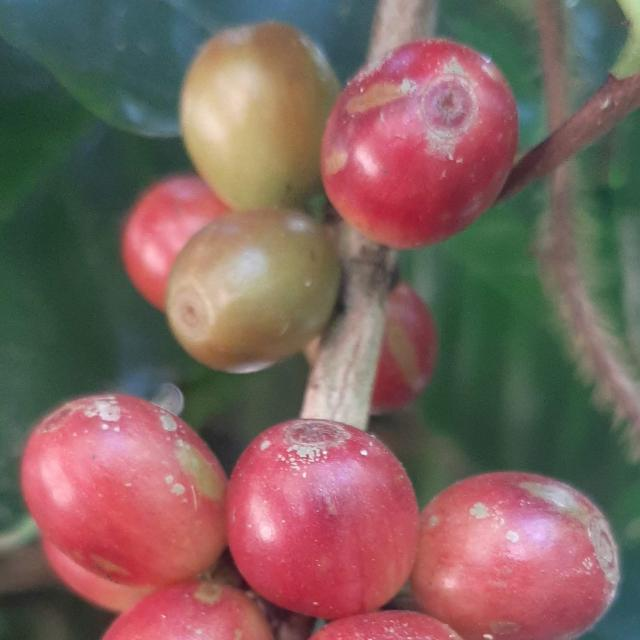red: (321, 39, 519, 249), (226, 420, 419, 620), (120, 174, 230, 310), (371, 282, 438, 415), (309, 612, 463, 640)
yellow: (20, 395, 226, 587), (413, 473, 620, 640), (180, 22, 339, 210), (165, 208, 341, 373), (102, 582, 274, 640), (41, 538, 154, 613)
